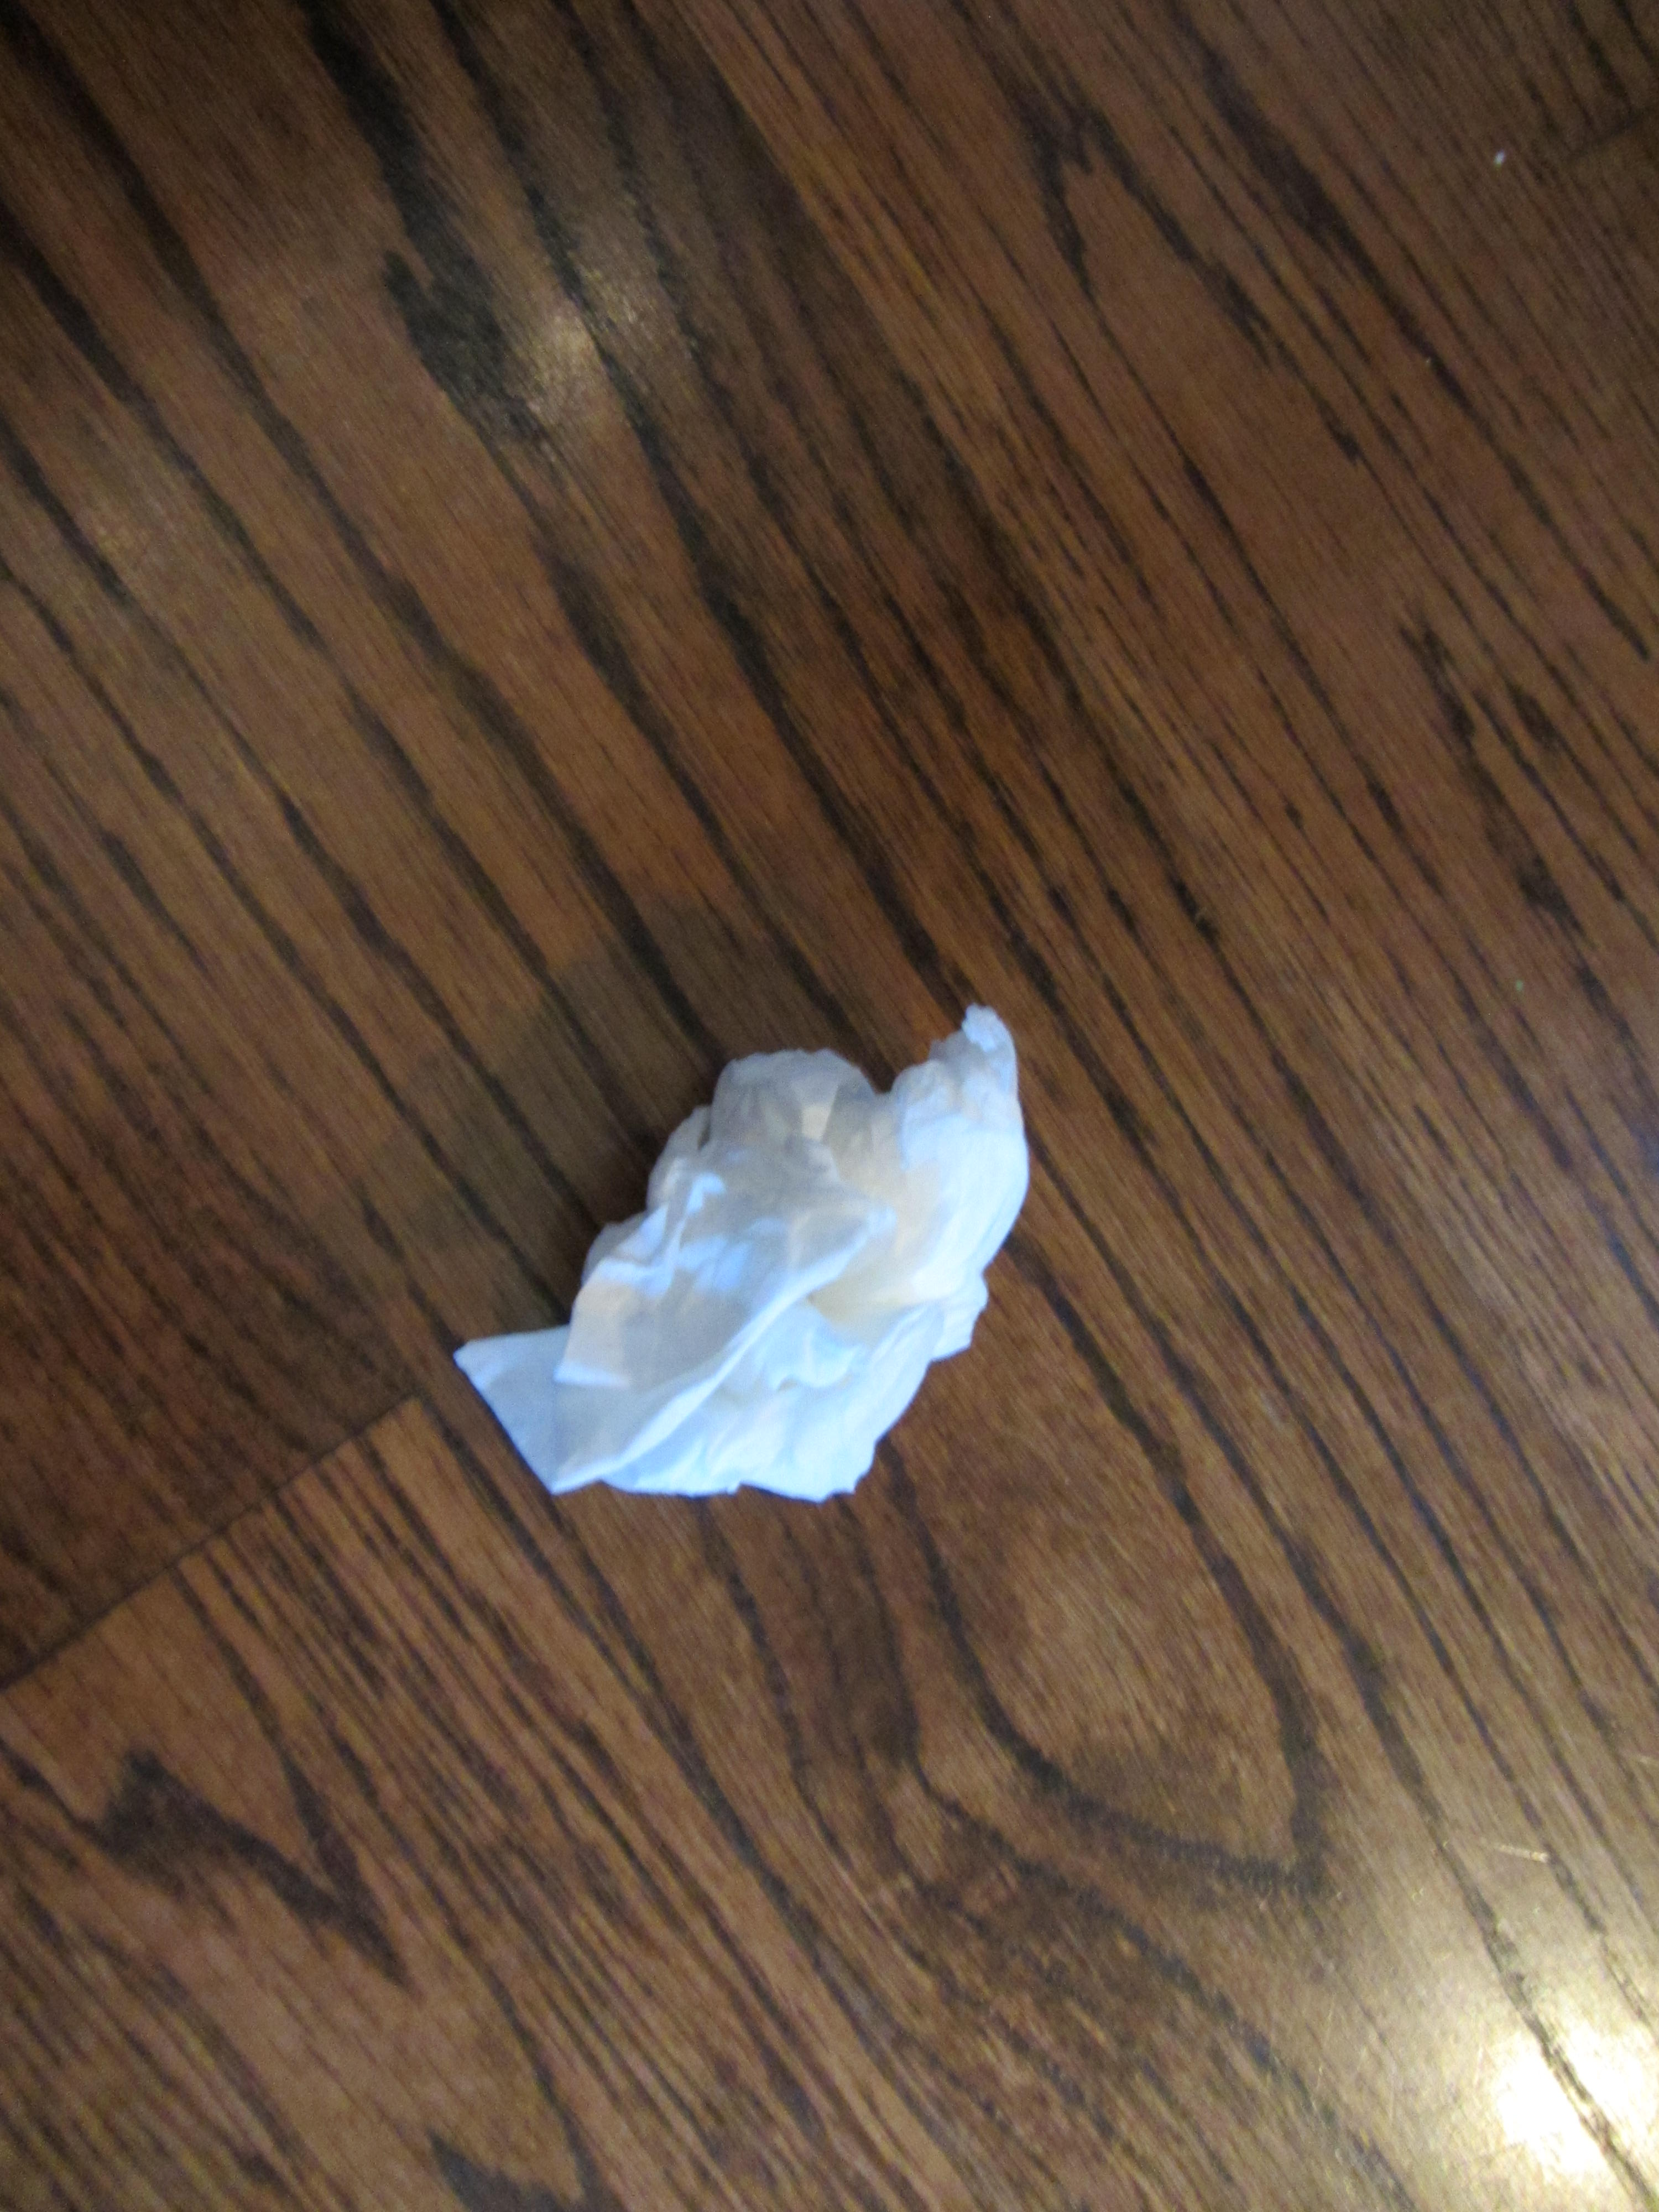tissue: (439, 956, 1014, 1559)
